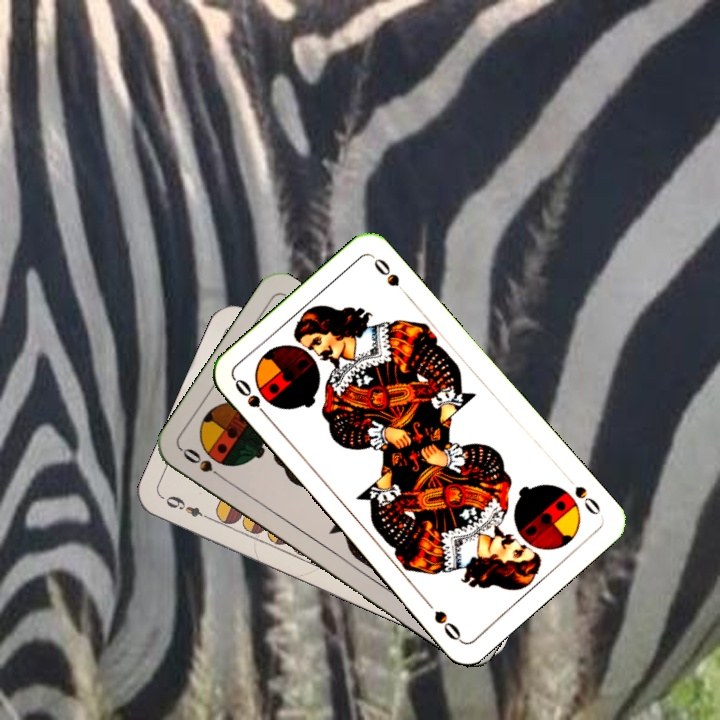E9: (161, 491, 215, 523)
SO: (230, 375, 274, 424), (178, 444, 230, 485), (561, 471, 604, 518)
